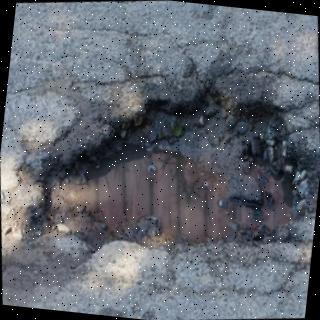pothole: (41, 88, 305, 244)
